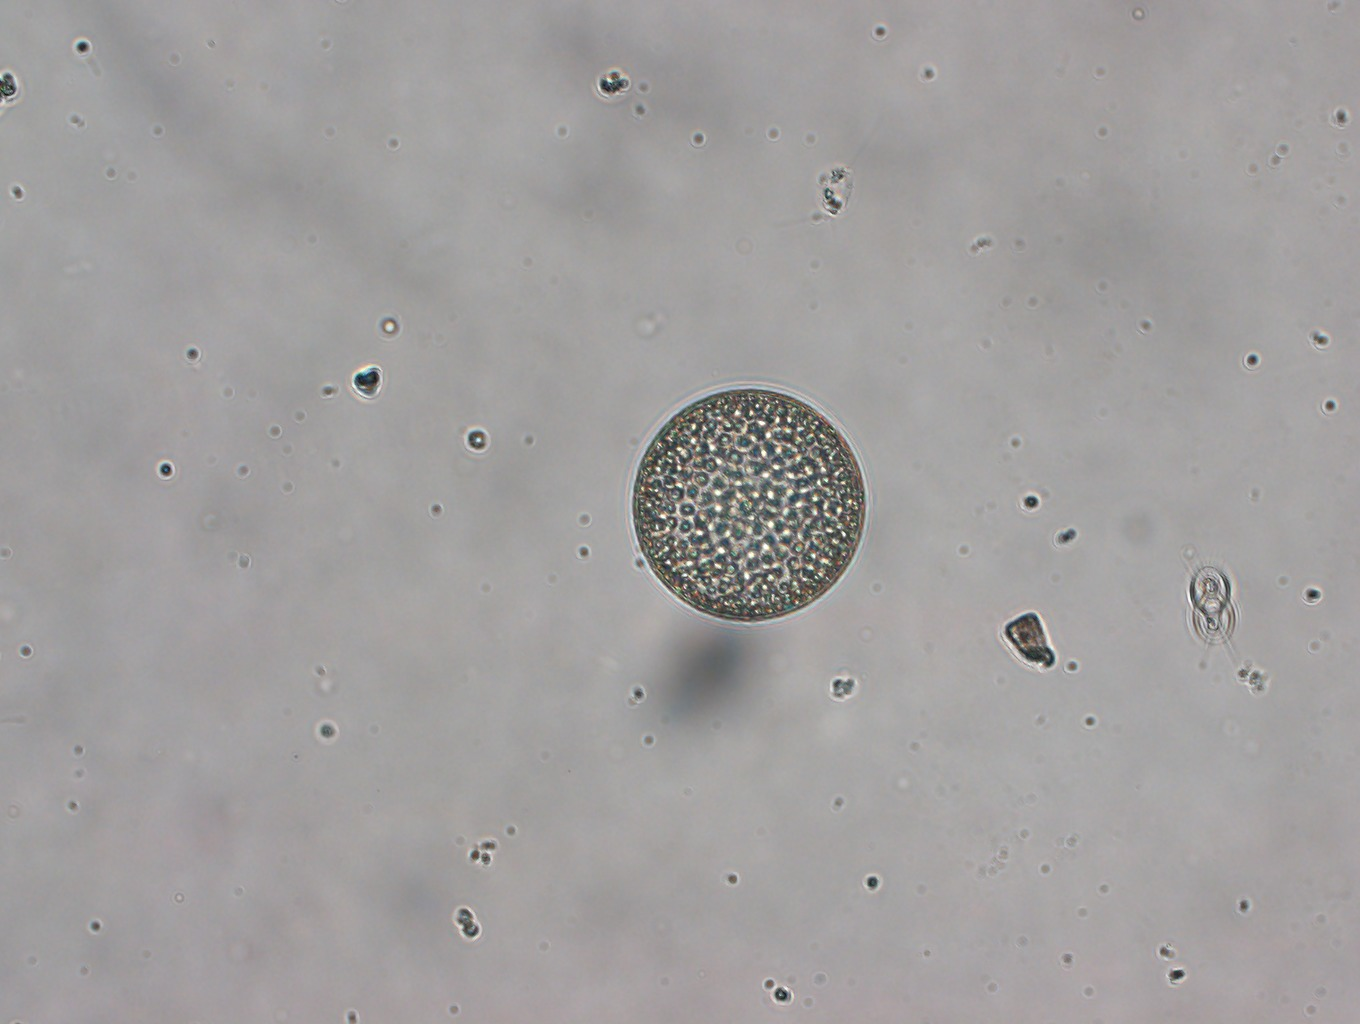coscinodiscus: (630, 387, 870, 624)
